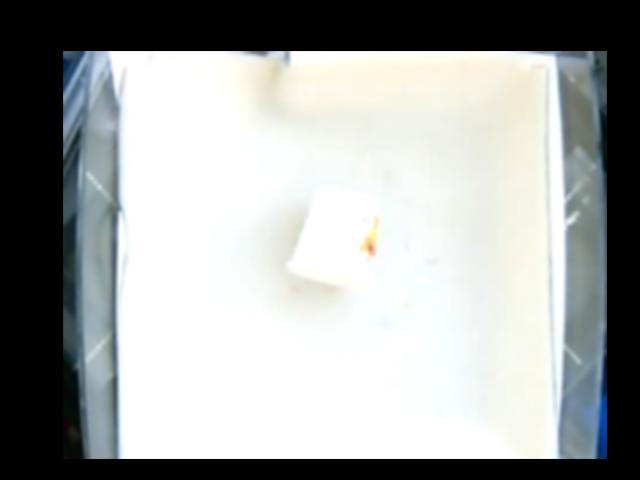Cup: (287, 188, 383, 290)
